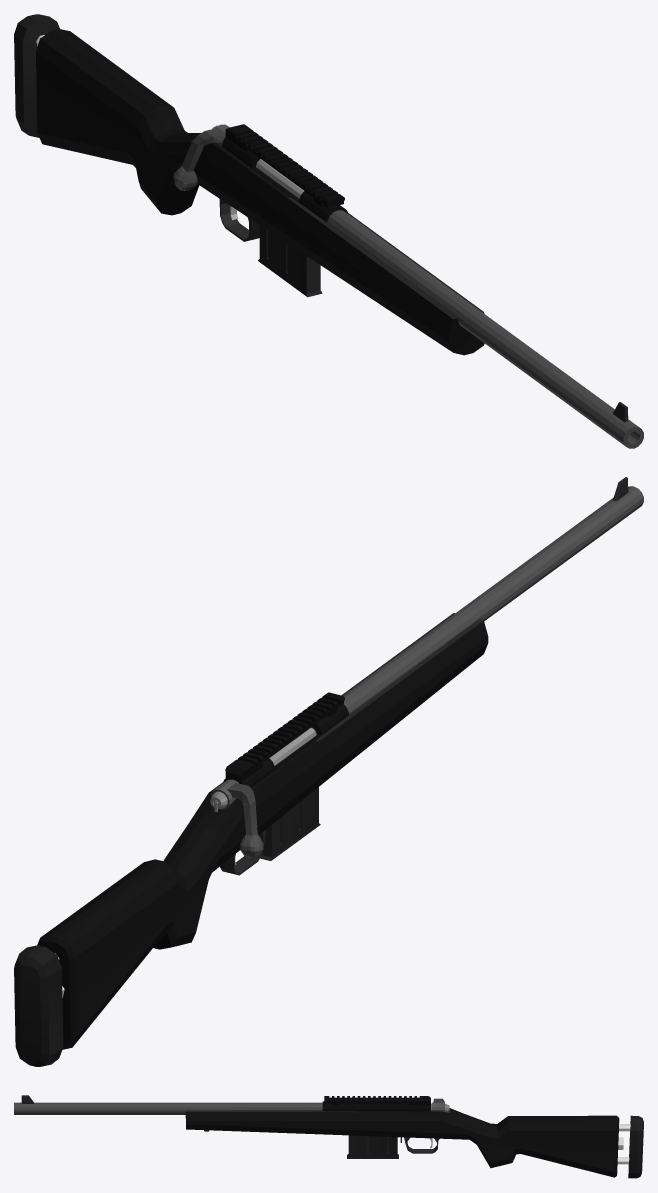
File: Sniper_1.fbx
The picture shows the model from 3 angles, top to bottom: view 1: azimuth 30°, elevation 25°; view 2: azimuth 150°, elevation 25°; view 3: azimuth 270°, elevation 25°; orthographic projection. The views are drawn at different scales.
Parts seen in each view (by area): view 1: Body, Magazine, Bolt Handle; view 2: Body, Magazine, Bolt Handle; view 3: Body, Magazine, Bolt Handle.
Part boxes in pixels (x1=…): Body: x1=14, y1=14, x2=643, y2=448; Magazine: x1=258, y1=225, x2=322, y2=297; Bolt Handle: x1=173, y1=124, x2=229, y2=190; Body: x1=14, y1=477, x2=643, y2=1066; Magazine: x1=260, y1=787, x2=320, y2=860; Bolt Handle: x1=211, y1=779, x2=263, y2=858; Body: x1=14, y1=1095, x2=643, y2=1178; Magazine: x1=347, y1=1135, x2=398, y2=1158; Bolt Handle: x1=431, y1=1098, x2=445, y2=1111.
Size of the model in its own units: 6.76 by 16.16 by 113.
